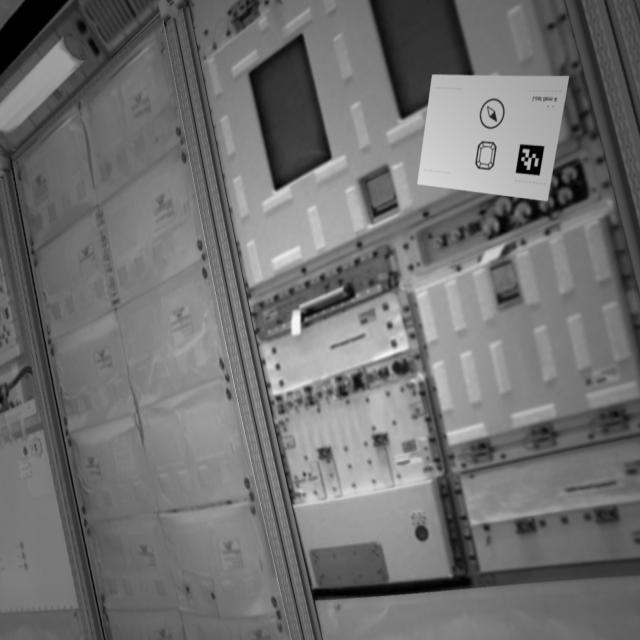compass: (477, 87, 511, 139)
emerald: (470, 136, 506, 179)
